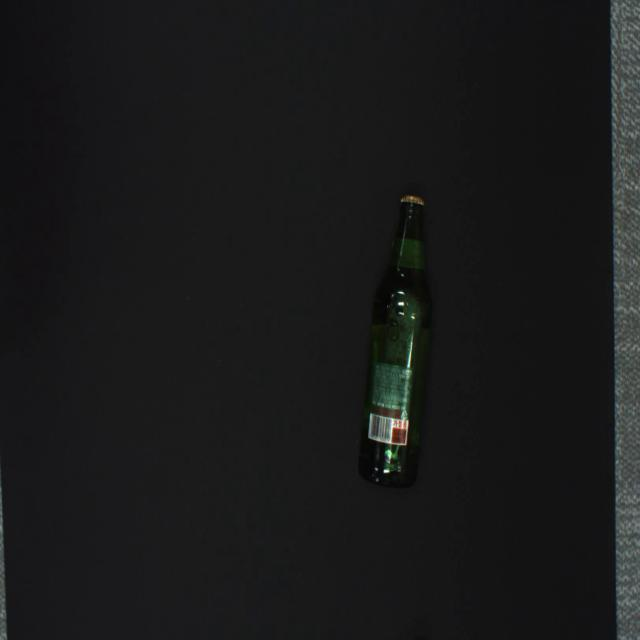beer-bottle: (359, 195, 433, 488)
